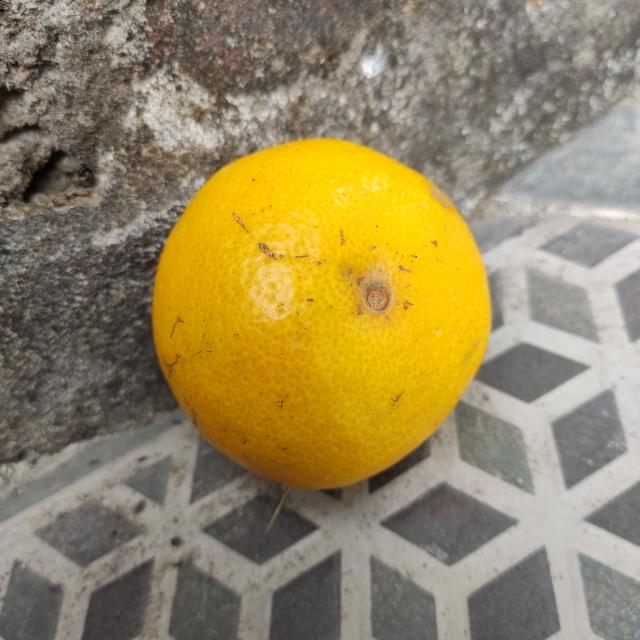orange: (141, 135, 496, 492)
